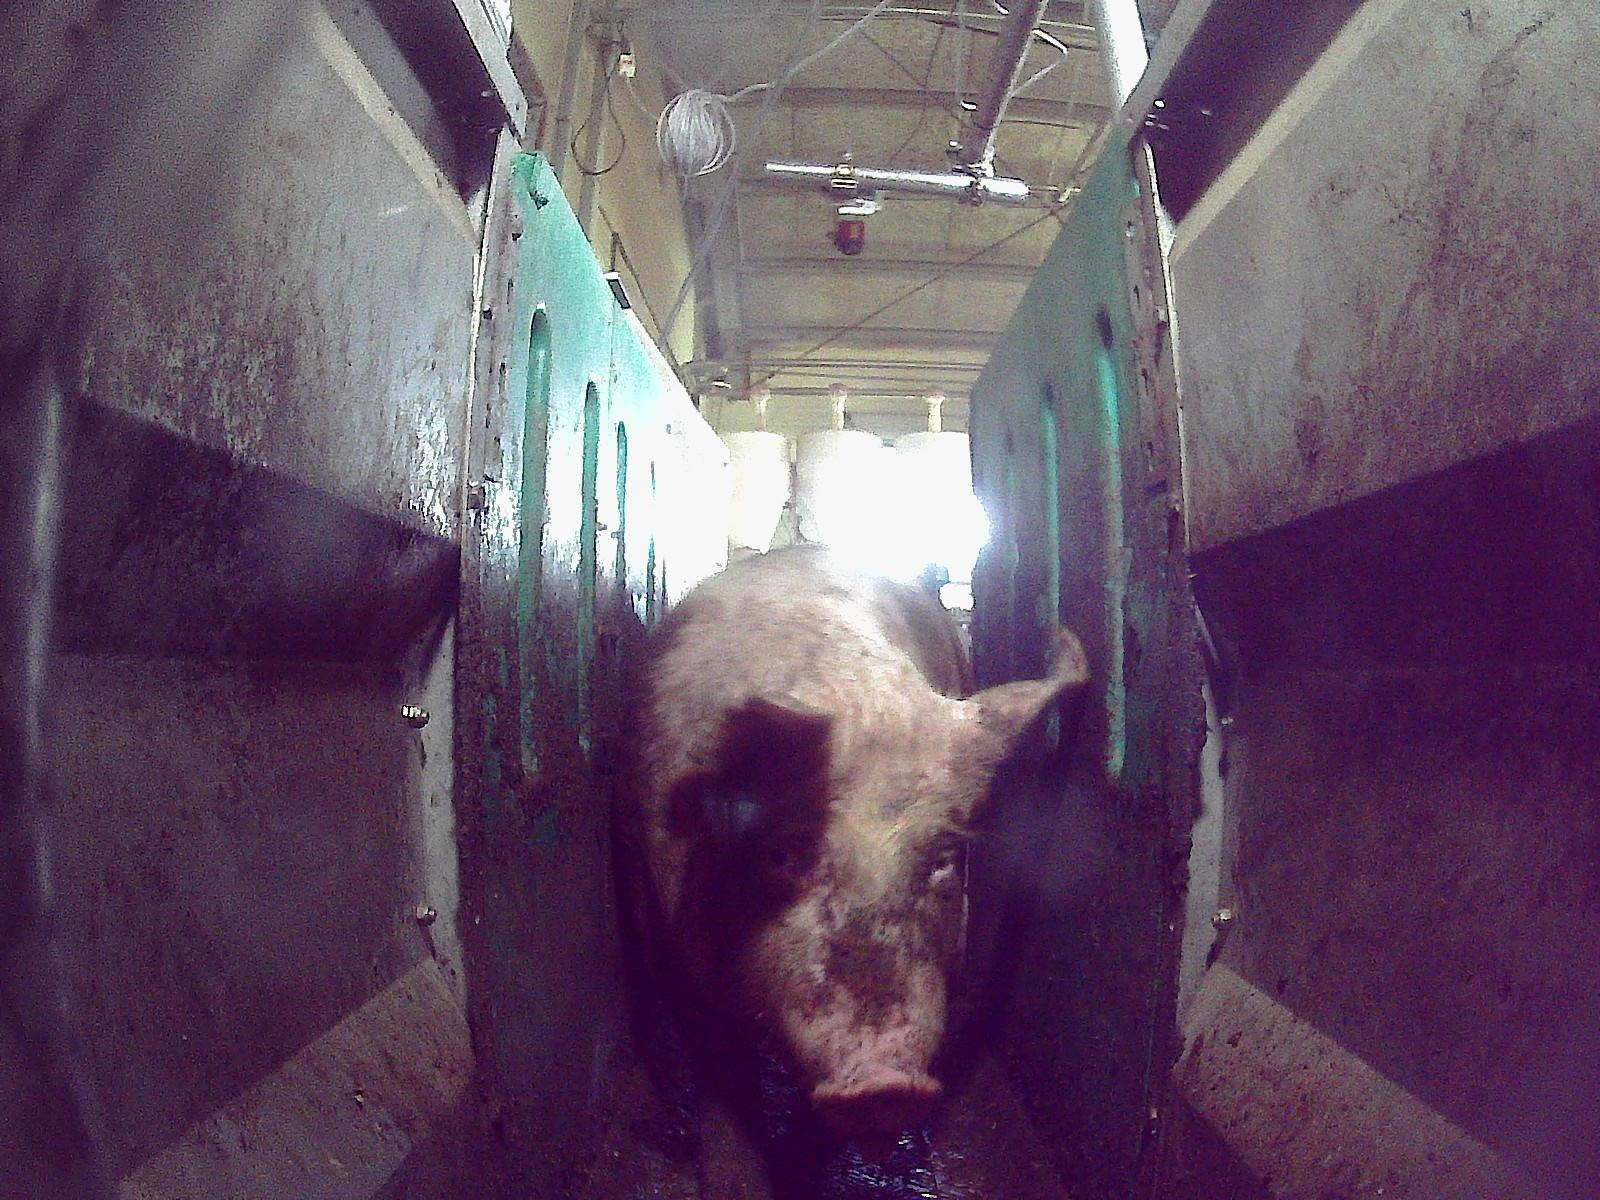Face: (686, 714, 968, 1132)
